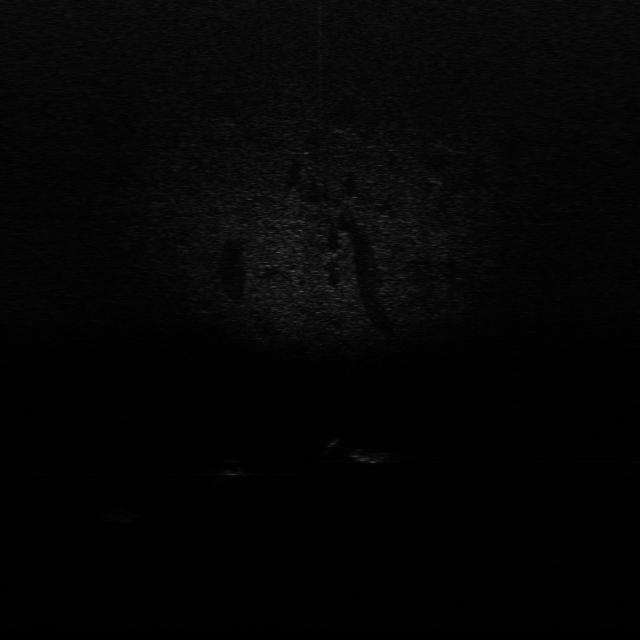ball: (214, 454, 253, 481)
circle cage: (98, 503, 142, 525)
human body: (323, 435, 397, 467)
